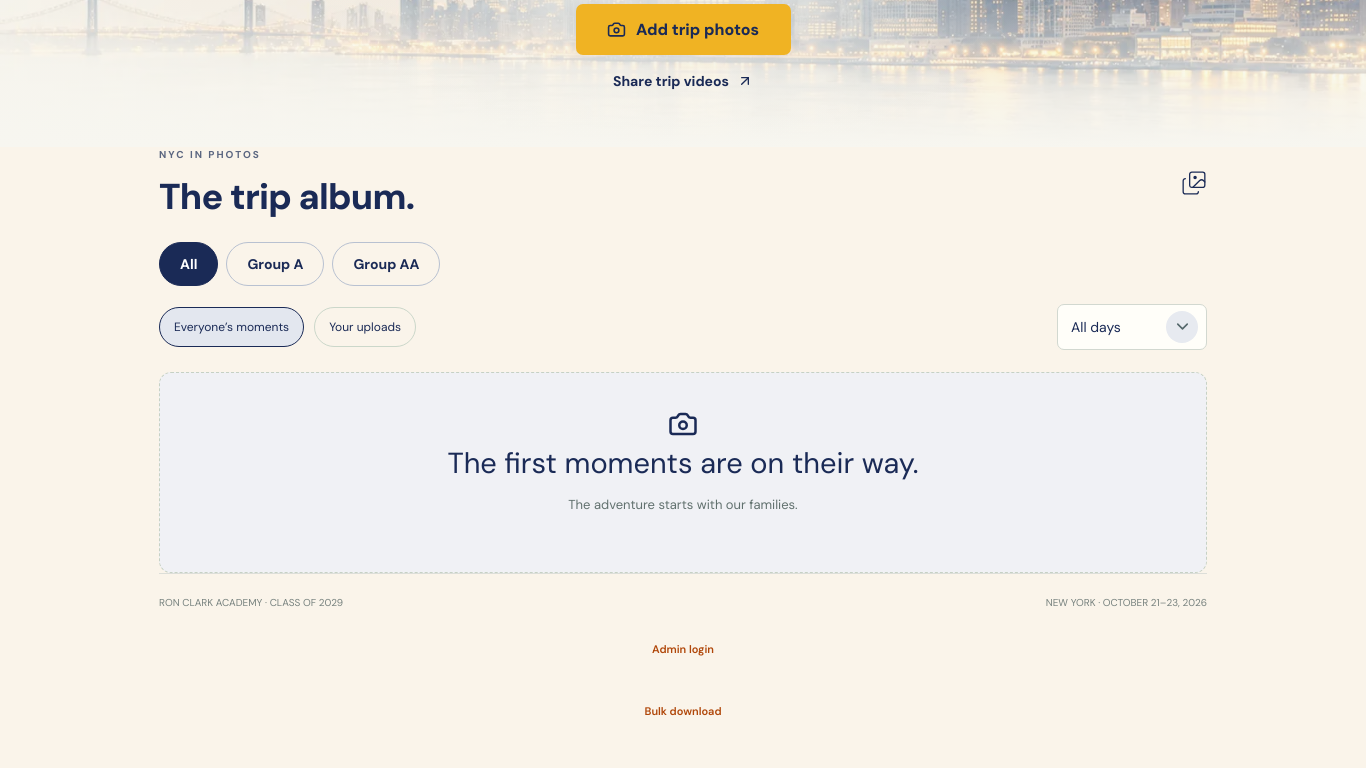
Test: offers bulk download at the bottom and requires sign-in before showing export controls
The width and height of the screenshot is (1366, 768).
(page scrolled)
Click the button "Bulk download" at [683, 711], box [159, 689, 1207, 733]
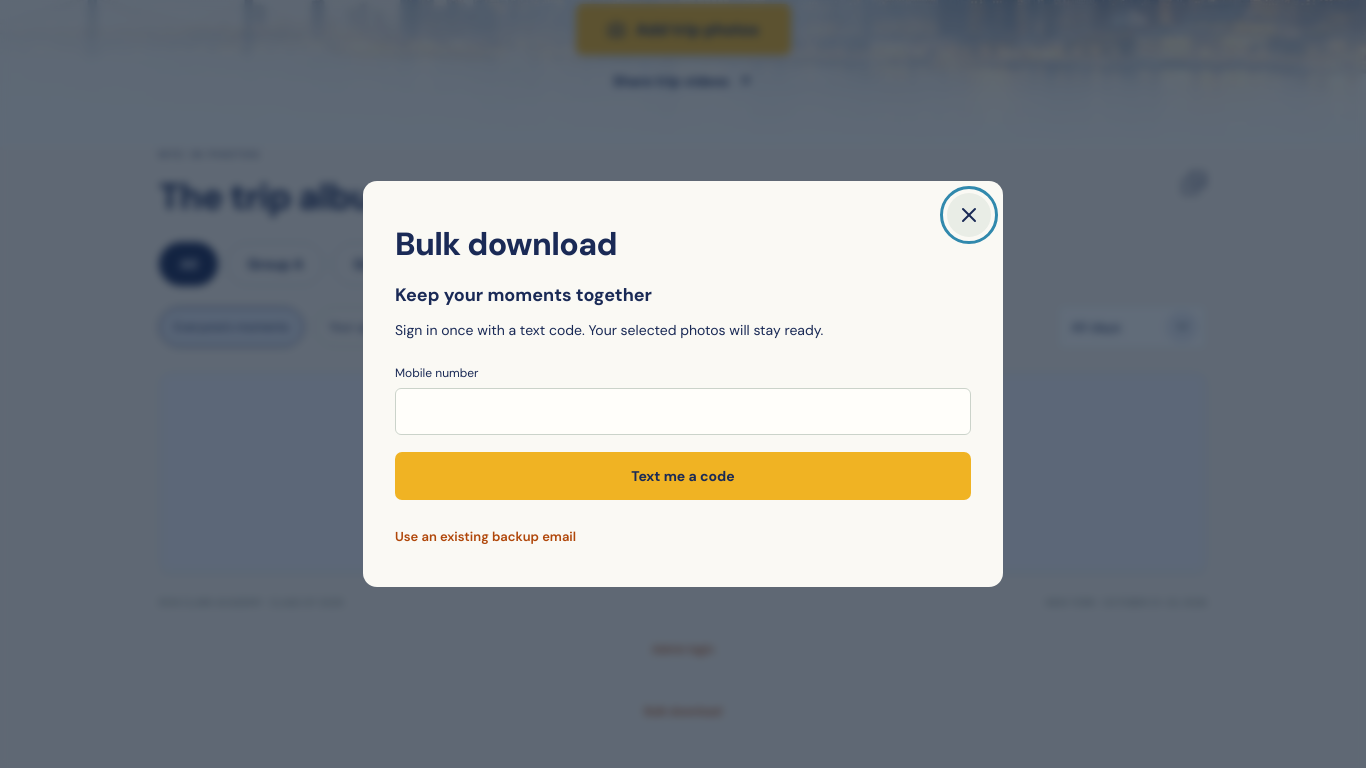
Expected: the dialog shows "Mobile number", [395, 364, 478, 380]
